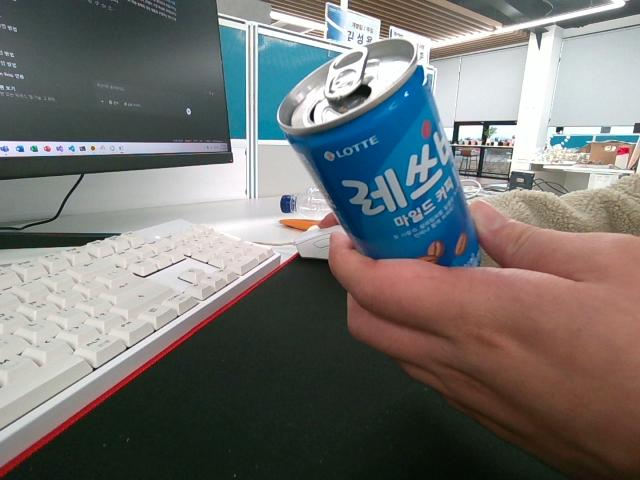letsbe: (276, 37, 482, 267)
